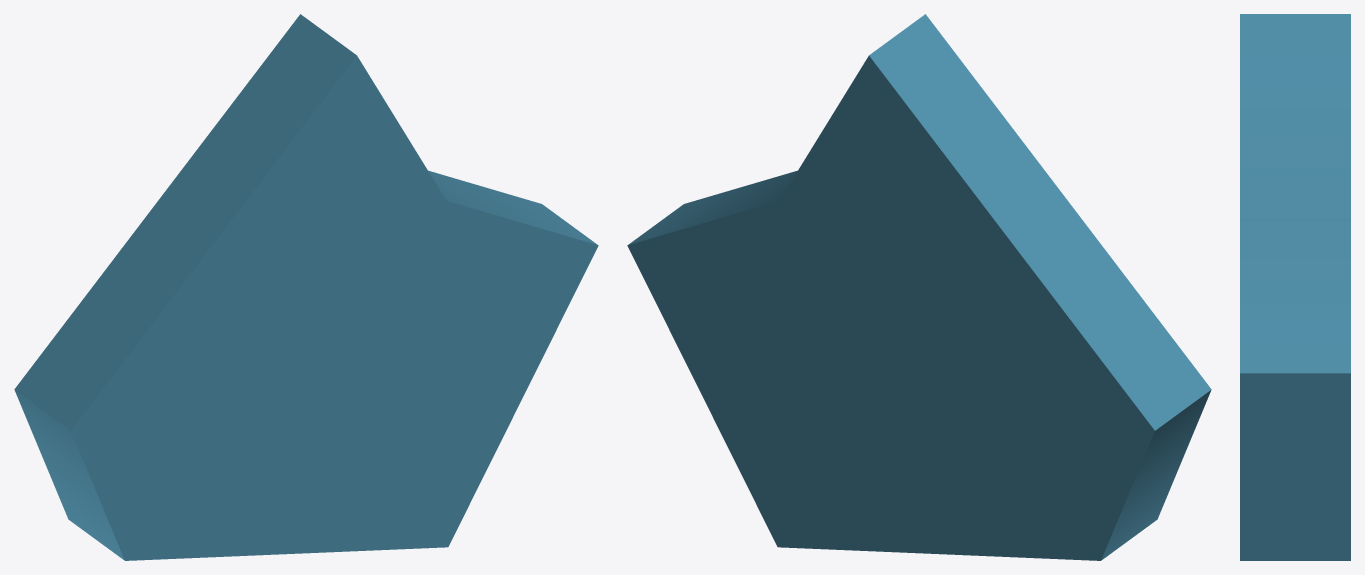
File: NexusA_Trigger_7.fbx
3 views of the same model, side by side, from view 1: azimuth 30°, elevation 25°; view 2: azimuth 150°, elevation 25°; view 3: azimuth 270°, elevation 25° (orthographic). The views are drawn at different scales.
Parts seen in each view (by area): view 1: pCube22; view 2: pCube22; view 3: pCube22.
Boxes of the visible parts, x1,y1,x2,y2 form: pCube22: [14, 14, 598, 560]; pCube22: [627, 14, 1211, 560]; pCube22: [1240, 14, 1350, 560].
Bounding box in the file's own units: 46.57 × 43.36 × 8.65.
